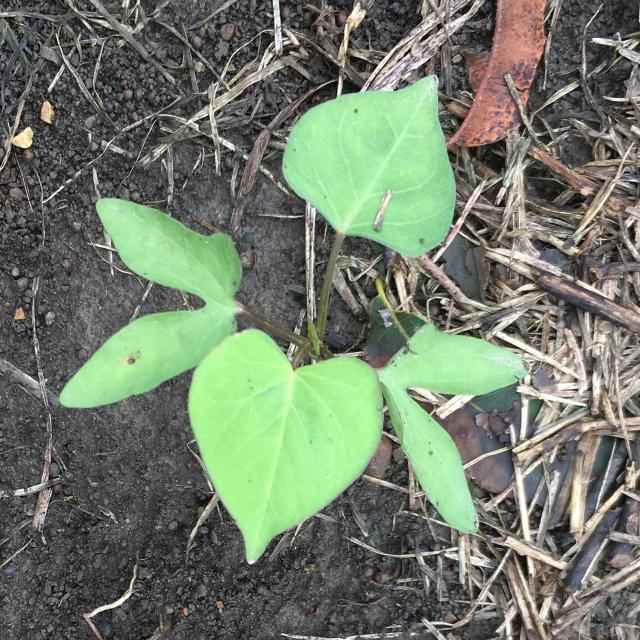MorningGlory: (60, 74, 531, 566)
